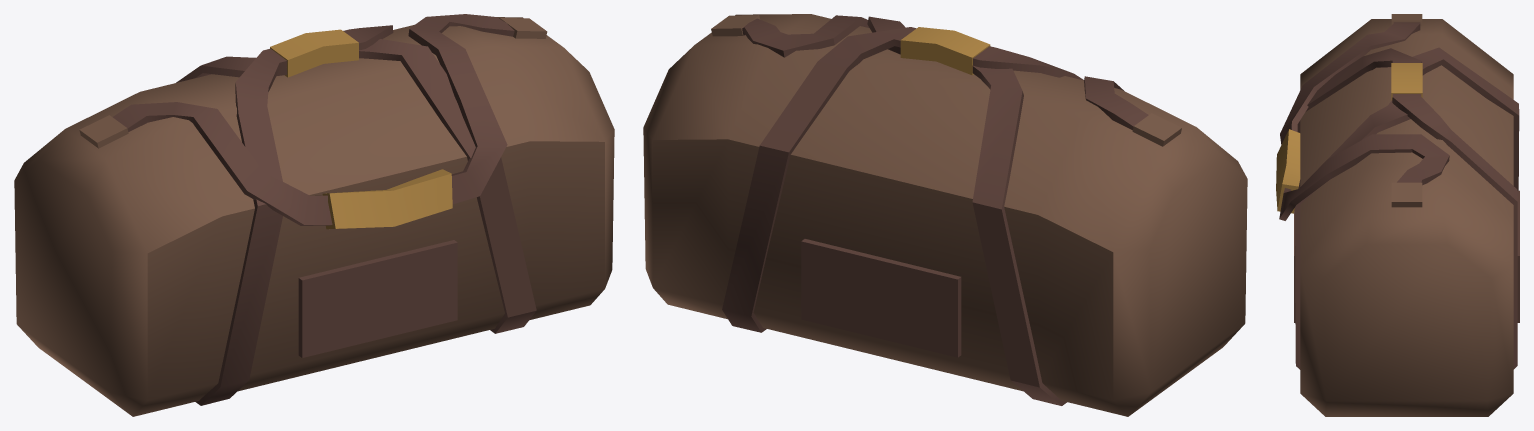
The model's file is TravelBag_Long.fbx.
3 renders of one model, left to right at view 1: azimuth 30°, elevation 25°; view 2: azimuth 150°, elevation 25°; view 3: azimuth 270°, elevation 25°, orthographic. The views are drawn at different scales.
Parts seen in each view (by area): view 1: TravelBag_Long; view 2: TravelBag_Long; view 3: TravelBag_Long.
Part boxes in pixels (bbox=[...]): TravelBag_Long: bbox=[14, 14, 614, 416]; TravelBag_Long: bbox=[643, 14, 1247, 416]; TravelBag_Long: bbox=[1276, 14, 1519, 416].
Bounding box in the file's own units: 155 × 86.23 × 75.65.
